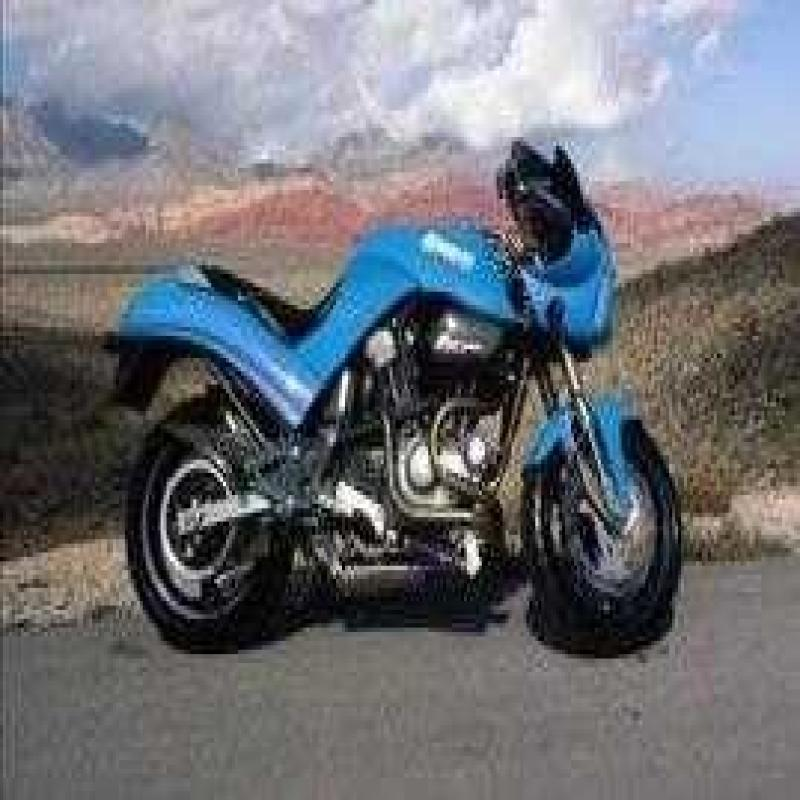bike: (121, 101, 680, 707)
